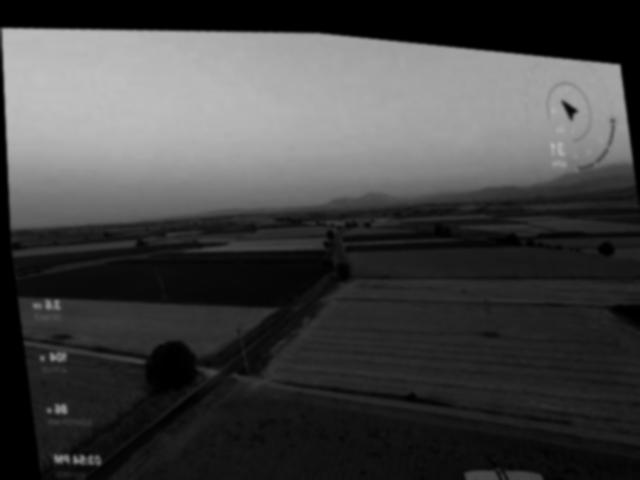hedef: (449, 435, 547, 480)
